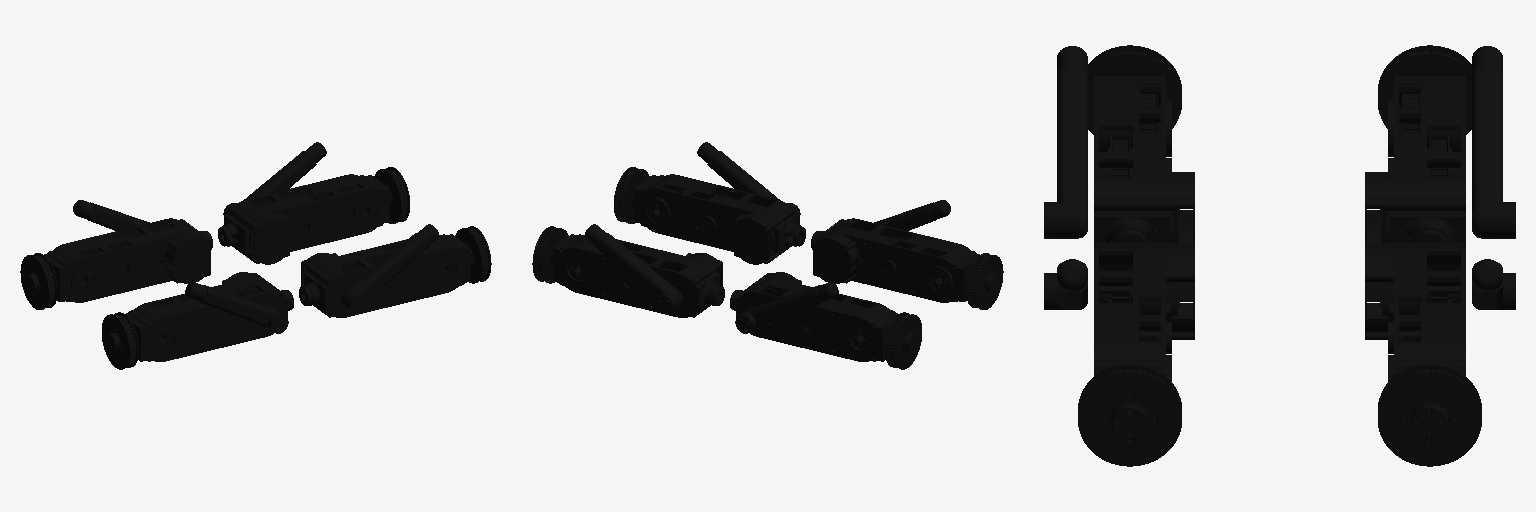
robot.urdf — mistletoe:
<?xml version="1.0" ?>
<!-- =================================================================================== -->
<!-- |    This document was autogenerated by xacro from .\urdf\mistletoe.xacro         | -->
<!-- |    EDITING THIS FILE BY HAND IS NOT RECOMMENDED                                 | -->
<!-- =================================================================================== -->
<robot xmlns:xacro="http://www.ros.org/wiki/xacro" name="mistletoe">
  <material name="silver_default">
    <color rgba="0.700 0.700 0.700 1.000"/>
  </material>
  <material name="plastic_glossy_black">
    <color rgba="0.09803921568627451 0.09803921568627451 0.09803921568627451 1.0"/>
  </material>
  <transmission name="Revolute 11_tran">
    <type>transmission_interface/SimpleTransmission</type>
    <joint name="Revolute 11">
      <hardwareInterface>hardware_interface/EffortJointInterface</hardwareInterface>
    </joint>
    <actuator name="Revolute 11_actr">
      <hardwareInterface>hardware_interface/EffortJointInterface</hardwareInterface>
      <mechanicalReduction>1</mechanicalReduction>
    </actuator>
  </transmission>
  <transmission name="Revolute 12_tran">
    <type>transmission_interface/SimpleTransmission</type>
    <joint name="Revolute 12">
      <hardwareInterface>hardware_interface/EffortJointInterface</hardwareInterface>
    </joint>
    <actuator name="Revolute 12_actr">
      <hardwareInterface>hardware_interface/EffortJointInterface</hardwareInterface>
      <mechanicalReduction>1</mechanicalReduction>
    </actuator>
  </transmission>
  <transmission name="Revolute 15_tran">
    <type>transmission_interface/SimpleTransmission</type>
    <joint name="Revolute 15">
      <hardwareInterface>hardware_interface/EffortJointInterface</hardwareInterface>
    </joint>
    <actuator name="Revolute 15_actr">
      <hardwareInterface>hardware_interface/EffortJointInterface</hardwareInterface>
      <mechanicalReduction>1</mechanicalReduction>
    </actuator>
  </transmission>
  <transmission name="Revolute 16_tran">
    <type>transmission_interface/SimpleTransmission</type>
    <joint name="Revolute 16">
      <hardwareInterface>hardware_interface/EffortJointInterface</hardwareInterface>
    </joint>
    <actuator name="Revolute 16_actr">
      <hardwareInterface>hardware_interface/EffortJointInterface</hardwareInterface>
      <mechanicalReduction>1</mechanicalReduction>
    </actuator>
  </transmission>
  <transmission name="Revolute 17_tran">
    <type>transmission_interface/SimpleTransmission</type>
    <joint name="Revolute 17">
      <hardwareInterface>hardware_interface/EffortJointInterface</hardwareInterface>
    </joint>
    <actuator name="Revolute 17_actr">
      <hardwareInterface>hardware_interface/EffortJointInterface</hardwareInterface>
      <mechanicalReduction>1</mechanicalReduction>
    </actuator>
  </transmission>
  <transmission name="Revolute 18_tran">
    <type>transmission_interface/SimpleTransmission</type>
    <joint name="Revolute 18">
      <hardwareInterface>hardware_interface/EffortJointInterface</hardwareInterface>
    </joint>
    <actuator name="Revolute 18_actr">
      <hardwareInterface>hardware_interface/EffortJointInterface</hardwareInterface>
      <mechanicalReduction>1</mechanicalReduction>
    </actuator>
  </transmission>
  <transmission name="Revolute 20_tran">
    <type>transmission_interface/SimpleTransmission</type>
    <joint name="Revolute 20">
      <hardwareInterface>hardware_interface/EffortJointInterface</hardwareInterface>
    </joint>
    <actuator name="Revolute 20_actr">
      <hardwareInterface>hardware_interface/EffortJointInterface</hardwareInterface>
      <mechanicalReduction>1</mechanicalReduction>
    </actuator>
  </transmission>
  <transmission name="Revolute 21_tran">
    <type>transmission_interface/SimpleTransmission</type>
    <joint name="Revolute 21">
      <hardwareInterface>hardware_interface/EffortJointInterface</hardwareInterface>
    </joint>
    <actuator name="Revolute 21_actr">
      <hardwareInterface>hardware_interface/EffortJointInterface</hardwareInterface>
      <mechanicalReduction>1</mechanicalReduction>
    </actuator>
  </transmission>
  <transmission name="Revolute 22_tran">
    <type>transmission_interface/SimpleTransmission</type>
    <joint name="Revolute 22">
      <hardwareInterface>hardware_interface/EffortJointInterface</hardwareInterface>
    </joint>
    <actuator name="Revolute 22_actr">
      <hardwareInterface>hardware_interface/EffortJointInterface</hardwareInterface>
      <mechanicalReduction>1</mechanicalReduction>
    </actuator>
  </transmission>
  <transmission name="Revolute 23_tran">
    <type>transmission_interface/SimpleTransmission</type>
    <joint name="Revolute 23">
      <hardwareInterface>hardware_interface/EffortJointInterface</hardwareInterface>
    </joint>
    <actuator name="Revolute 23_actr">
      <hardwareInterface>hardware_interface/EffortJointInterface</hardwareInterface>
      <mechanicalReduction>1</mechanicalReduction>
    </actuator>
  </transmission>
  <transmission name="Revolute 24_tran">
    <type>transmission_interface/SimpleTransmission</type>
    <joint name="Revolute 24">
      <hardwareInterface>hardware_interface/EffortJointInterface</hardwareInterface>
    </joint>
    <actuator name="Revolute 24_actr">
      <hardwareInterface>hardware_interface/EffortJointInterface</hardwareInterface>
      <mechanicalReduction>1</mechanicalReduction>
    </actuator>
  </transmission>
  <transmission name="Revolute 25_tran">
    <type>transmission_interface/SimpleTransmission</type>
    <joint name="Revolute 25">
      <hardwareInterface>hardware_interface/EffortJointInterface</hardwareInterface>
    </joint>
    <actuator name="Revolute 25_actr">
      <hardwareInterface>hardware_interface/EffortJointInterface</hardwareInterface>
      <mechanicalReduction>1</mechanicalReduction>
    </actuator>
  </transmission>
  <link name="base_link">
    <inertial>
      <origin xyz="-0.06657859086794671 -0.12180227598730413 -0.027661254547312428" rpy="0 0 0"/>
      <mass value="2.781822888066483"/>
      <inertia ixx="0.012347" iyy="0.169247" izz="0.177361" ixy="3e-06" iyz="0.0" ixz="4.1e-05"/>
    </inertial>
    <visual>
      <origin xyz="0 0 0" rpy="0 0 0"/>
      <geometry>
        <mesh filename="package://mistletoe_description/meshes/base_link.stl" scale="0.001 0.001 0.001"/>
      </geometry>
      <material name="plastic_glossy_black"/>
    </visual>
    <collision>
      <origin xyz="0 0 0" rpy="0 0 0"/>
      <geometry>
        <mesh filename="package://mistletoe_description/meshes/base_link.stl" scale="0.001 0.001 0.001"/>
      </geometry>
    </collision>
  </link>
  <link name="ANKLE_v4_1">
    <inertial>
      <origin xyz="0.05969551525022495 -0.021647688090993697 0.03446521495096979" rpy="0 0 0"/>
      <mass value="0.0707595437253254"/>
      <inertia ixx="5.5e-05" iyy="0.000193" izz="0.000147" ixy="4e-06" iyz="3e-06" ixz="-8e-05"/>
    </inertial>
    <visual>
      <origin xyz="-0.002 -0.0695 0.025" rpy="0 0 0"/>
      <geometry>
        <mesh filename="package://mistletoe_description/meshes/ANKLE_v4_1.stl" scale="0.001 0.001 0.001"/>
      </geometry>
      <material name="plastic_glossy_black"/>
    </visual>
    <collision>
      <origin xyz="-0.002 -0.0695 0.025" rpy="0 0 0"/>
      <geometry>
        <mesh filename="package://mistletoe_description/meshes/ANKLE_v4_1.stl" scale="0.001 0.001 0.001"/>
      </geometry>
    </collision>
  </link>
  <link name="ACTUATOR_V2.1__KNEE__v10_1">
    <inertial>
      <origin xyz="-0.053095905532469054 0.060256502054564544 6.906335524137219e-06" rpy="0 0 0"/>
      <mass value="0.6687419456686833"/>
      <inertia ixx="0.000581" iyy="0.003897" izz="0.004059" ixy="0.000492" iyz="0.0" ixz="-0.0"/>
    </inertial>
    <visual>
      <origin xyz="-0.17787 -0.025 0.025" rpy="0 0 0"/>
      <geometry>
        <mesh filename="package://mistletoe_description/meshes/ACTUATOR_V2.1__KNEE__v10_1.stl" scale="0.001 0.001 0.001"/>
      </geometry>
      <material name="plastic_glossy_black"/>
    </visual>
    <collision>
      <origin xyz="-0.17787 -0.025 0.025" rpy="0 0 0"/>
      <geometry>
        <mesh filename="package://mistletoe_description/meshes/ACTUATOR_V2.1__KNEE__v10_1.stl" scale="0.001 0.001 0.001"/>
      </geometry>
    </collision>
  </link>
  <link name="Hip_1">
    <inertial>
      <origin xyz="-0.1675167715088863 -0.008238257074782445 5.1741322754095265e-09" rpy="0 0 0"/>
      <mass value="0.5600707780907046"/>
      <inertia ixx="0.000428" iyy="0.004847" izz="0.004917" ixy="-0.000319" iyz="-0.0" ixz="0.0"/>
    </inertial>
    <visual>
      <origin xyz="-0.255776 0.0 0.025" rpy="0 0 0"/>
      <geometry>
        <mesh filename="package://mistletoe_description/meshes/Hip_1.stl" scale="0.001 0.001 0.001"/>
      </geometry>
      <material name="plastic_glossy_black"/>
    </visual>
    <collision>
      <origin xyz="-0.255776 0.0 0.025" rpy="0 0 0"/>
      <geometry>
        <mesh filename="package://mistletoe_description/meshes/Hip_1.stl" scale="0.001 0.001 0.001"/>
      </geometry>
    </collision>
  </link>
  <link name="Hip_2">
    <inertial>
      <origin xyz="-0.1675167715088863 0.008238257074782346 -5.1741326362320095e-09" rpy="0 0 0"/>
      <mass value="0.5600707780907046"/>
      <inertia ixx="0.000428" iyy="0.004847" izz="0.004917" ixy="0.000319" iyz="-0.0" ixz="-0.0"/>
    </inertial>
    <visual>
      <origin xyz="-0.255776 0.243608 0.025" rpy="0 0 0"/>
      <geometry>
        <mesh filename="package://mistletoe_description/meshes/Hip_2.stl" scale="0.001 0.001 0.001"/>
      </geometry>
      <material name="plastic_glossy_black"/>
    </visual>
    <collision>
      <origin xyz="-0.255776 0.243608 0.025" rpy="0 0 0"/>
      <geometry>
        <mesh filename="package://mistletoe_description/meshes/Hip_2.stl" scale="0.001 0.001 0.001"/>
      </geometry>
    </collision>
  </link>
  <link name="ACTUATOR_V2.1__KNEE__v10_2">
    <inertial>
      <origin xyz="-0.05309590553246836 -0.06025650205456423 -6.906335525459079e-06" rpy="0 0 0"/>
      <mass value="0.6687419456686833"/>
      <inertia ixx="0.000581" iyy="0.003897" izz="0.004059" ixy="-0.000492" iyz="0.0" ixz="0.0"/>
    </inertial>
    <visual>
      <origin xyz="-0.17787 0.268608 0.025" rpy="0 0 0"/>
      <geometry>
        <mesh filename="package://mistletoe_description/meshes/ACTUATOR_V2.1__KNEE__v10_2.stl" scale="0.001 0.001 0.001"/>
      </geometry>
      <material name="plastic_glossy_black"/>
    </visual>
    <collision>
      <origin xyz="-0.17787 0.268608 0.025" rpy="0 0 0"/>
      <geometry>
        <mesh filename="package://mistletoe_description/meshes/ACTUATOR_V2.1__KNEE__v10_2.stl" scale="0.001 0.001 0.001"/>
      </geometry>
    </collision>
  </link>
  <link name="ANKLE_v4_2">
    <inertial>
      <origin xyz="0.05969550931954534 0.02164768809099249 0.034465225223213276" rpy="0 0 0"/>
      <mass value="0.0707595437253254"/>
      <inertia ixx="5.5e-05" iyy="0.000193" izz="0.000147" ixy="-4e-06" iyz="-3e-06" ixz="-8e-05"/>
    </inertial>
    <visual>
      <origin xyz="-0.002 0.313108 0.025" rpy="0 0 0"/>
      <geometry>
        <mesh filename="package://mistletoe_description/meshes/ANKLE_v4_2.stl" scale="0.001 0.001 0.001"/>
      </geometry>
      <material name="plastic_glossy_black"/>
    </visual>
    <collision>
      <origin xyz="-0.002 0.313108 0.025" rpy="0 0 0"/>
      <geometry>
        <mesh filename="package://mistletoe_description/meshes/ANKLE_v4_2.stl" scale="0.001 0.001 0.001"/>
      </geometry>
    </collision>
  </link>
  <link name="Hip_3">
    <inertial>
      <origin xyz="0.16751677150888733 -0.008238257074779353 -5.1741440437735875e-09" rpy="0 0 0"/>
      <mass value="0.5600707780907046"/>
      <inertia ixx="0.000428" iyy="0.004847" izz="0.004917" ixy="0.000319" iyz="0.0" ixz="0.0"/>
    </inertial>
    <visual>
      <origin xyz="0.389589 -0.0 0.025" rpy="0 0 0"/>
      <geometry>
        <mesh filename="package://mistletoe_description/meshes/Hip_3.stl" scale="0.001 0.001 0.001"/>
      </geometry>
      <material name="plastic_glossy_black"/>
    </visual>
    <collision>
      <origin xyz="0.389589 -0.0 0.025" rpy="0 0 0"/>
      <geometry>
        <mesh filename="package://mistletoe_description/meshes/Hip_3.stl" scale="0.001 0.001 0.001"/>
      </geometry>
    </collision>
  </link>
  <link name="Hip_4">
    <inertial>
      <origin xyz="0.16751677150888733 0.008238257074783567 5.174120378675928e-09" rpy="0 0 0"/>
      <mass value="0.5600707780907046"/>
      <inertia ixx="0.000428" iyy="0.004847" izz="0.004917" ixy="-0.000319" iyz="0.0" ixz="-0.0"/>
    </inertial>
    <visual>
      <origin xyz="0.389589 0.243608 0.025" rpy="0 0 0"/>
      <geometry>
        <mesh filename="package://mistletoe_description/meshes/Hip_4.stl" scale="0.001 0.001 0.001"/>
      </geometry>
      <material name="plastic_glossy_black"/>
    </visual>
    <collision>
      <origin xyz="0.389589 0.243608 0.025" rpy="0 0 0"/>
      <geometry>
        <mesh filename="package://mistletoe_description/meshes/Hip_4.stl" scale="0.001 0.001 0.001"/>
      </geometry>
    </collision>
  </link>
  <link name="ACTUATOR_V2.1__KNEE__v10_3">
    <inertial>
      <origin xyz="0.05309590553246918 0.06025650205456721 -6.906335536495389e-06" rpy="0 0 0"/>
      <mass value="0.6687419456686833"/>
      <inertia ixx="0.000581" iyy="0.003897" izz="0.004059" ixy="-0.000492" iyz="-0.0" ixz="-0.0"/>
    </inertial>
    <visual>
      <origin xyz="0.311683 -0.025 0.025" rpy="0 0 0"/>
      <geometry>
        <mesh filename="package://mistletoe_description/meshes/ACTUATOR_V2.1__KNEE__v10_3.stl" scale="0.001 0.001 0.001"/>
      </geometry>
      <material name="plastic_glossy_black"/>
    </visual>
    <collision>
      <origin xyz="0.311683 -0.025 0.025" rpy="0 0 0"/>
      <geometry>
        <mesh filename="package://mistletoe_description/meshes/ACTUATOR_V2.1__KNEE__v10_3.stl" scale="0.001 0.001 0.001"/>
      </geometry>
    </collision>
  </link>
  <link name="ACTUATOR_V2.1__KNEE__v10_4">
    <inertial>
      <origin xyz="0.05309590553246907 -0.060256502054563066 6.906335511820683e-06" rpy="0 0 0"/>
      <mass value="0.6687419456686833"/>
      <inertia ixx="0.000581" iyy="0.003897" izz="0.004059" ixy="0.000492" iyz="-0.0" ixz="0.0"/>
    </inertial>
    <visual>
      <origin xyz="0.311683 0.268608 0.025" rpy="0 0 0"/>
      <geometry>
        <mesh filename="package://mistletoe_description/meshes/ACTUATOR_V2.1__KNEE__v10_4.stl" scale="0.001 0.001 0.001"/>
      </geometry>
      <material name="plastic_glossy_black"/>
    </visual>
    <collision>
      <origin xyz="0.311683 0.268608 0.025" rpy="0 0 0"/>
      <geometry>
        <mesh filename="package://mistletoe_description/meshes/ACTUATOR_V2.1__KNEE__v10_4.stl" scale="0.001 0.001 0.001"/>
      </geometry>
    </collision>
  </link>
  <link name="ANKLE_v4_3">
    <inertial>
      <origin xyz="-0.059695515250226594 0.021647688090994432 0.03446521495095798" rpy="0 0 0"/>
      <mass value="0.0707595437253254"/>
      <inertia ixx="5.5e-05" iyy="0.000193" izz="0.000147" ixy="4e-06" iyz="-3e-06" ixz="8e-05"/>
    </inertial>
    <visual>
      <origin xyz="0.135813 0.313108 0.025" rpy="0 0 0"/>
      <geometry>
        <mesh filename="package://mistletoe_description/meshes/ANKLE_v4_3.stl" scale="0.001 0.001 0.001"/>
      </geometry>
      <material name="plastic_glossy_black"/>
    </visual>
    <collision>
      <origin xyz="0.135813 0.313108 0.025" rpy="0 0 0"/>
      <geometry>
        <mesh filename="package://mistletoe_description/meshes/ANKLE_v4_3.stl" scale="0.001 0.001 0.001"/>
      </geometry>
    </collision>
  </link>
  <link name="ANKLE_v4_4">
    <inertial>
      <origin xyz="-0.05969550931954573 -0.021647688090990137 0.03446522522320031" rpy="0 0 0"/>
      <mass value="0.0707595437253254"/>
      <inertia ixx="5.5e-05" iyy="0.000193" izz="0.000147" ixy="-4e-06" iyz="3e-06" ixz="8e-05"/>
    </inertial>
    <visual>
      <origin xyz="0.135813 -0.0695 0.025" rpy="0 0 0"/>
      <geometry>
        <mesh filename="package://mistletoe_description/meshes/ANKLE_v4_4.stl" scale="0.001 0.001 0.001"/>
      </geometry>
      <material name="plastic_glossy_black"/>
    </visual>
    <collision>
      <origin xyz="0.135813 -0.0695 0.025" rpy="0 0 0"/>
      <geometry>
        <mesh filename="package://mistletoe_description/meshes/ANKLE_v4_4.stl" scale="0.001 0.001 0.001"/>
      </geometry>
    </collision>
  </link>
  <joint name="Revolute 11" type="continuous">
    <origin xyz="-0.17587 0.0445 0.0" rpy="0 0 0"/>
    <parent link="ACTUATOR_V2.1__KNEE__v10_1"/>
    <child link="ANKLE_v4_1"/>
    <axis xyz="0.0 1.0 0.0"/>
  </joint>
  <joint name="Revolute 12" type="continuous">
    <origin xyz="-0.077906 0.025 0.0" rpy="0 0 0"/>
    <parent link="Hip_1"/>
    <child link="ACTUATOR_V2.1__KNEE__v10_1"/>
    <axis xyz="0.0 -1.0 0.0"/>
  </joint>
  <joint name="Revolute 15" type="continuous">
    <origin xyz="0.255776 0.0 -0.025" rpy="0 0 0"/>
    <parent link="base_link"/>
    <child link="Hip_1"/>
    <axis xyz="-1.0 -0.0 -0.0"/>
  </joint>
  <joint name="Revolute 16" type="continuous">
    <origin xyz="0.255776 -0.243608 -0.025" rpy="0 0 0"/>
    <parent link="base_link"/>
    <child link="Hip_2"/>
    <axis xyz="1.0 -0.0 0.0"/>
  </joint>
  <joint name="Revolute 17" type="continuous">
    <origin xyz="-0.077906 -0.025 0.0" rpy="0 0 0"/>
    <parent link="Hip_2"/>
    <child link="ACTUATOR_V2.1__KNEE__v10_2"/>
    <axis xyz="0.0 1.0 -0.0"/>
  </joint>
  <joint name="Revolute 18" type="continuous">
    <origin xyz="-0.17587 -0.0445 0.0" rpy="0 0 0"/>
    <parent link="ACTUATOR_V2.1__KNEE__v10_2"/>
    <child link="ANKLE_v4_2"/>
    <axis xyz="0.0 -1.0 0.0"/>
  </joint>
  <joint name="Revolute 20" type="continuous">
    <origin xyz="-0.389589 0.0 -0.025" rpy="0 0 0"/>
    <parent link="base_link"/>
    <child link="Hip_3"/>
    <axis xyz="1.0 -0.0 0.0"/>
  </joint>
  <joint name="Revolute 21" type="continuous">
    <origin xyz="-0.389589 -0.243608 -0.025" rpy="0 0 0"/>
    <parent link="base_link"/>
    <child link="Hip_4"/>
    <axis xyz="1.0 -0.0 0.0"/>
  </joint>
  <joint name="Revolute 22" type="continuous">
    <origin xyz="0.077906 0.025 0.0" rpy="0 0 0"/>
    <parent link="Hip_3"/>
    <child link="ACTUATOR_V2.1__KNEE__v10_3"/>
    <axis xyz="-0.0 -1.0 0.0"/>
  </joint>
  <joint name="Revolute 23" type="continuous">
    <origin xyz="0.077906 -0.025 0.0" rpy="0 0 0"/>
    <parent link="Hip_4"/>
    <child link="ACTUATOR_V2.1__KNEE__v10_4"/>
    <axis xyz="-0.0 1.0 0.0"/>
  </joint>
  <joint name="Revolute 24" type="continuous">
    <origin xyz="0.17587 -0.0445 0.0" rpy="0 0 0"/>
    <parent link="ACTUATOR_V2.1__KNEE__v10_4"/>
    <child link="ANKLE_v4_3"/>
    <axis xyz="-0.0 -1.0 -0.0"/>
  </joint>
  <joint name="Revolute 25" type="continuous">
    <origin xyz="0.17587 0.0445 0.0" rpy="0 0 0"/>
    <parent link="ACTUATOR_V2.1__KNEE__v10_3"/>
    <child link="ANKLE_v4_4"/>
    <axis xyz="-0.0 1.0 -0.0"/>
  </joint>
</robot>

--- Render facts (derived) ---
The picture shows the robot from 3 angles, left to right: view 1: azimuth 30°, elevation 25°; view 2: azimuth 150°, elevation 25°; view 3: azimuth 270°, elevation 25°; orthographic projection.
Model mistletoe with 13 links and 12 joints (12 continuous), rooted at base_link, posed every joint at zero.
Links seen in each view (by area): view 1: Hip_3, Hip_1, Hip_4, Hip_2, ANKLE_v4_2, ANKLE_v4_3, ANKLE_v4_1, ANKLE_v4_4; view 2: Hip_4, Hip_2, Hip_3, Hip_1, ANKLE_v4_1, ANKLE_v4_4, ANKLE_v4_2, ANKLE_v4_3; view 3: Hip_1, Hip_2, Hip_3, Hip_4, ANKLE_v4_3, ANKLE_v4_4, ANKLE_v4_1, ANKLE_v4_2.
Boxes of the visible links, left/top/right/bottom form: Hip_3: left=20, top=218, right=212, bottom=309; Hip_1: left=218, top=167, right=409, bottom=264; Hip_4: left=102, top=272, right=293, bottom=369; Hip_2: left=299, top=226, right=491, bottom=317; ANKLE_v4_2: left=341, top=224, right=438, bottom=314; ANKLE_v4_3: left=185, top=282, right=288, bottom=333; ANKLE_v4_1: left=223, top=142, right=326, bottom=214; ANKLE_v4_4: left=73, top=200, right=149, bottom=230; Hip_4: left=811, top=218, right=1003, bottom=309; Hip_2: left=614, top=167, right=805, bottom=264; Hip_3: left=730, top=272, right=921, bottom=369; Hip_1: left=532, top=226, right=724, bottom=317; ANKLE_v4_1: left=585, top=224, right=682, bottom=314; ANKLE_v4_4: left=735, top=282, right=838, bottom=333; ANKLE_v4_2: left=697, top=142, right=800, bottom=214; ANKLE_v4_3: left=874, top=200, right=950, bottom=230; Hip_1: left=1365, top=243, right=1481, bottom=466; Hip_2: left=1078, top=243, right=1194, bottom=466; Hip_3: left=1365, top=45, right=1471, bottom=242; Hip_4: left=1088, top=45, right=1194, bottom=242; ANKLE_v4_3: left=1044, top=46, right=1087, bottom=238; ANKLE_v4_4: left=1472, top=46, right=1515, bottom=238; ANKLE_v4_1: left=1472, top=259, right=1515, bottom=309; ANKLE_v4_2: left=1044, top=259, right=1087, bottom=309.
Size in the robot's own frame: 0.6454 by 0.3826 by 0.1344 metres.
Meshes: 13 distinct files referenced, 8 mesh visuals loaded (8 binary STL); not drawn: 5 (reference not matched to a file when rendering).